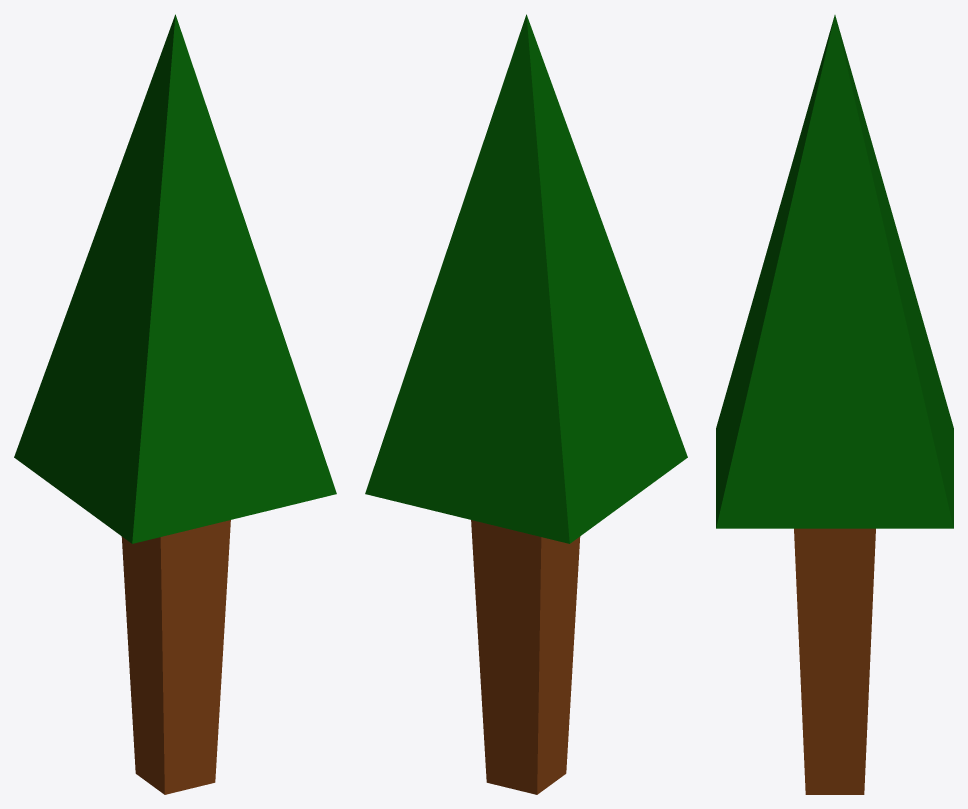
The model's file is tree_3.dae.
The picture shows the model from 3 angles, left to right: view 1: azimuth 30°, elevation 25°; view 2: azimuth 150°, elevation 25°; view 3: azimuth 270°, elevation 25°; orthographic projection.
Visible parts, largest first — view 1: group_0 (×2); view 2: group_0 (×2); view 3: group_0 (×2).
Boxes of the visible parts, box(x1,y1,x2,y2) form: group_0 (×2): box(14, 14, 336, 794); group_0 (×2): box(365, 14, 687, 794); group_0 (×2): box(716, 15, 953, 794).
Bounding box in the file's own units: 67.23 × 67.23 × 240.
